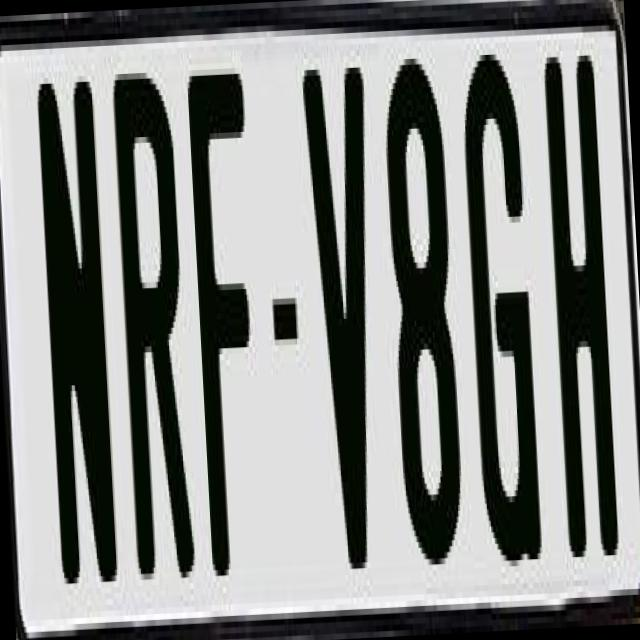8: (382, 58, 466, 578)
F: (184, 73, 268, 600)
G: (457, 36, 547, 556)
H: (541, 43, 625, 581)
N: (32, 76, 119, 614)
R: (106, 61, 194, 604)
V: (296, 56, 388, 570)
